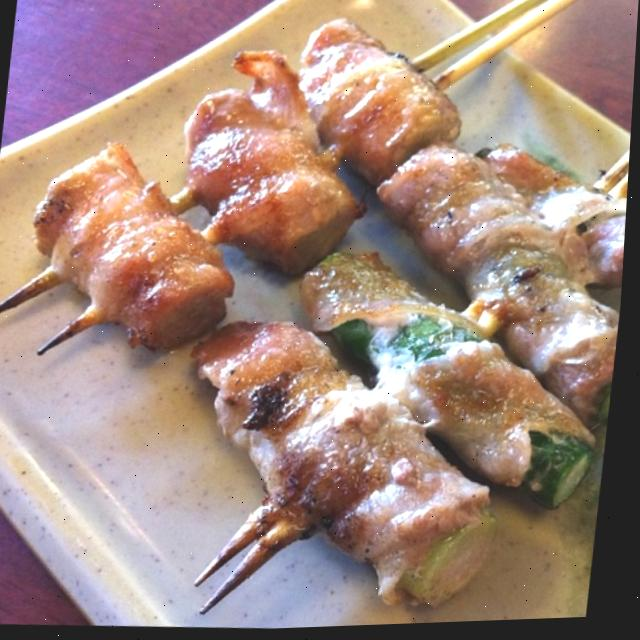牛肉菜式: (4, 0, 640, 617)
